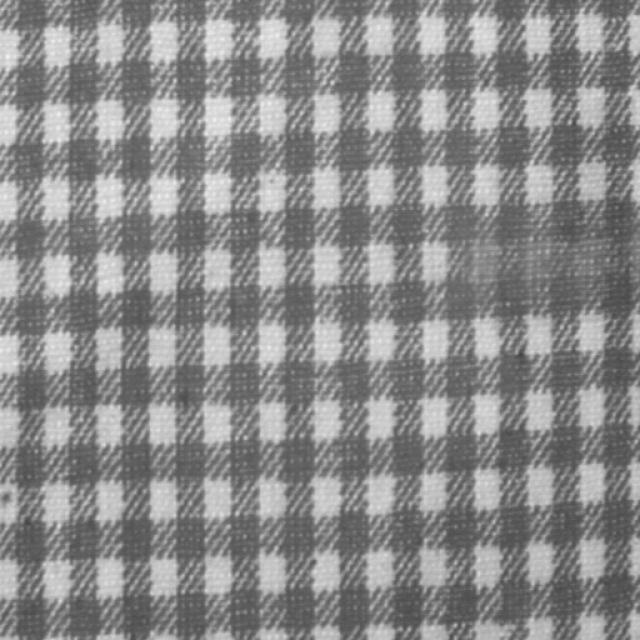Stain-Defect: (470, 239, 609, 286)
